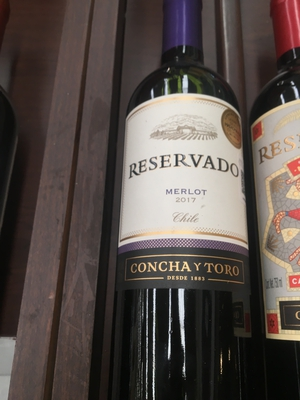reservado merlot: (112, 4, 247, 391)
